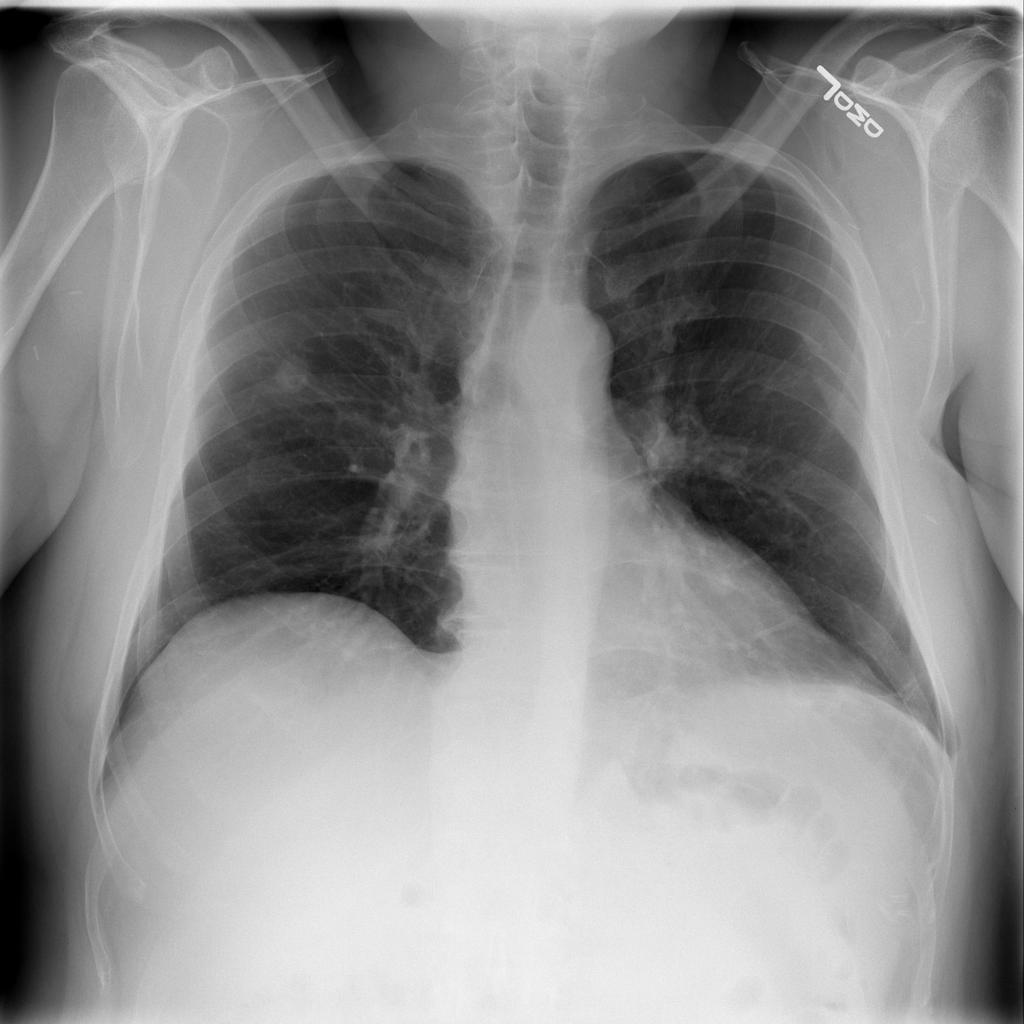nodule: (629, 408, 701, 485), (256, 338, 328, 408), (693, 555, 748, 603)
